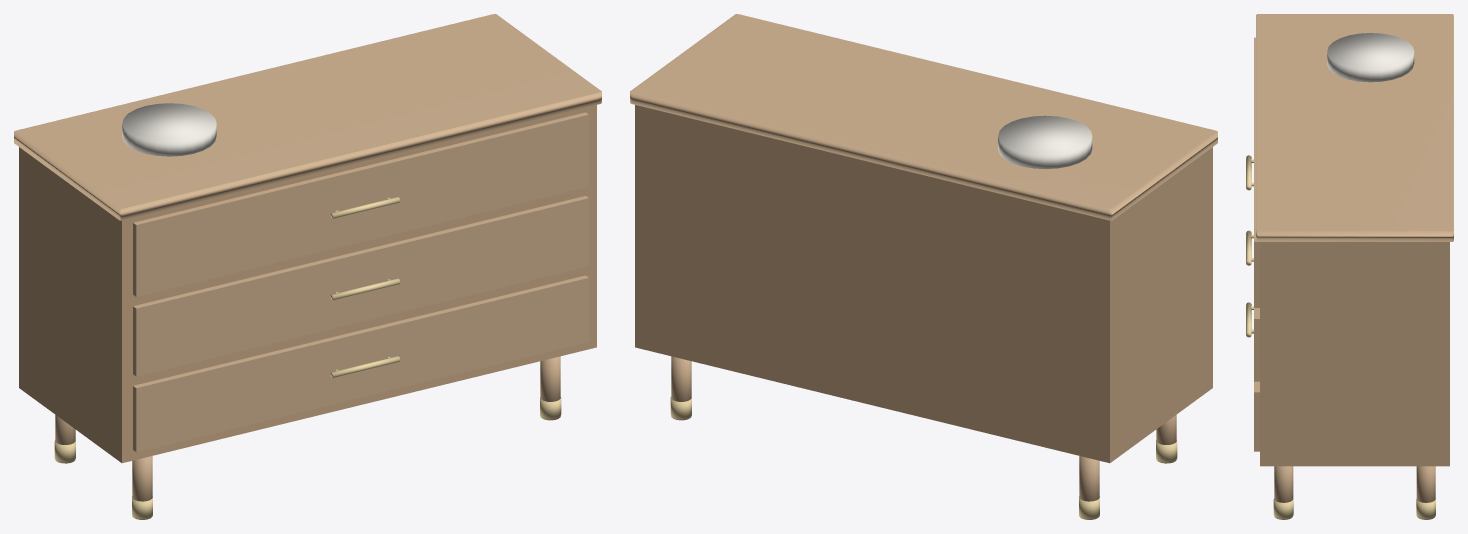
Rendered from med_drawers.glb.
3 renders of one model, left to right at view 1: azimuth 30°, elevation 25°; view 2: azimuth 150°, elevation 25°; view 3: azimuth 270°, elevation 25°, orthographic. The views are drawn at different scales.
Parts seen in each view (by area): view 1: Cube.001, Cube, DrawerFront_2, DrawerFront_1, DrawerFront_0, Cylinder.008, Cylinder.002, Cylinder; view 2: Cube, Cube.001, Cylinder.008, Cylinder.006, Cylinder.004; view 3: Cube, Cube.001, Cylinder.008, DrawerFront_2, Cylinder.006, Cylinder.002, DrawerFront_1, DrawerFront_0, Cylinder.003, Cylinder.007.
Part boxes in pixels (left/top/right/bottom): Cube.001: left=14, top=14, right=601, bottom=220; Cube: left=19, top=105, right=596, bottom=463; DrawerFront_2: left=133, top=112, right=588, bottom=296; DrawerFront_1: left=133, top=196, right=588, bottom=376; DrawerFront_0: left=133, top=275, right=588, bottom=452; Cylinder.008: left=122, top=103, right=216, bottom=156; Cylinder.002: left=540, top=356, right=560, bottom=420; Cylinder: left=132, top=456, right=152, bottom=519; Cube: left=635, top=105, right=1212, bottom=463; Cube.001: left=630, top=14, right=1217, bottom=220; Cylinder.008: left=998, top=115, right=1092, bottom=169; Cylinder.006: left=671, top=356, right=691, bottom=420; Cylinder.004: left=1079, top=456, right=1099, bottom=519; Cube: left=1260, top=242, right=1449, bottom=466; Cube.001: left=1256, top=14, right=1453, bottom=241; Cylinder.008: left=1327, top=33, right=1414, bottom=82; DrawerFront_2: left=1254, top=37, right=1259, bottom=307; Cylinder.006: left=1416, top=466, right=1435, bottom=519; Cylinder.002: left=1274, top=466, right=1293, bottom=519; DrawerFront_1: left=1254, top=308, right=1259, bottom=381; DrawerFront_0: left=1254, top=381, right=1259, bottom=451; Cylinder.003: left=1273, top=498, right=1293, bottom=519; Cylinder.007: left=1416, top=498, right=1435, bottom=519.
Size of the model in its own units: 1.3 by 0.8755 by 0.525.
